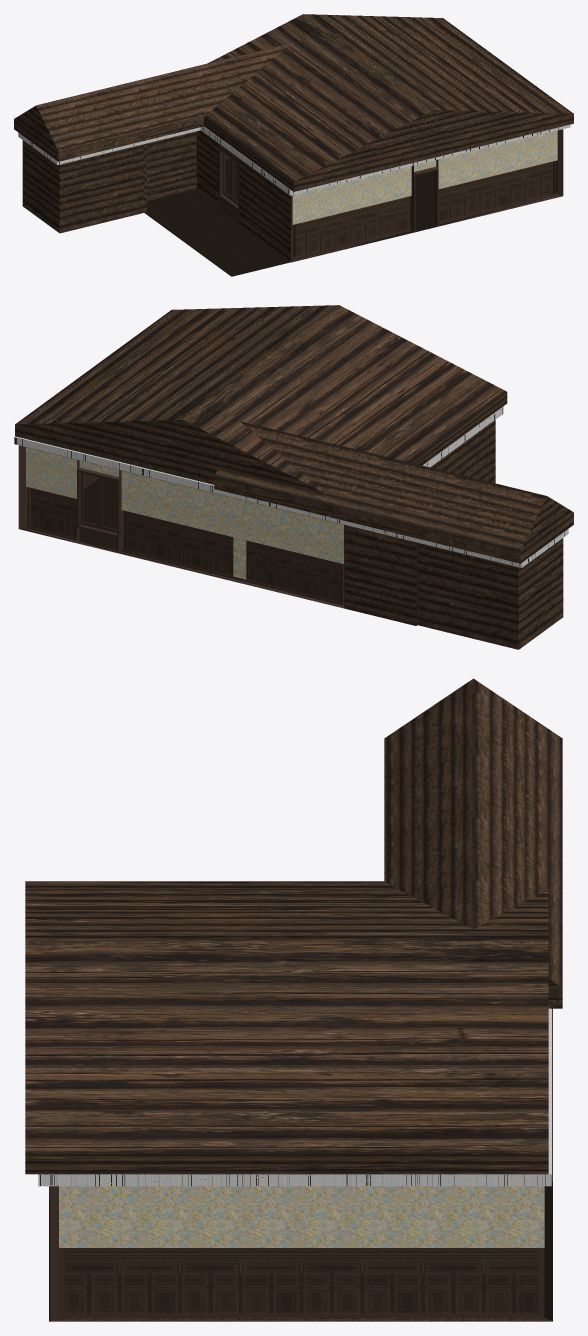
File: loft1.gltf
3 renders of one model, top to bottom at view 1: azimuth 30°, elevation 25°; view 2: azimuth 150°, elevation 25°; view 3: azimuth 270°, elevation 25°, orthographic. The views are drawn at different scales.
Parts seen in each view (by area): view 1: toit, loft01, Cube.002, sdb, ground, plafond; view 2: toit, loft01, Cube.002, sdb, plafond, ground, Cube; view 3: toit, loft01, Cube.002, plafond, ground.
Boxes of the visible parts, <box> form: toit: <box>204,14,573,191</box>; loft01: <box>144,129,563,262</box>; Cube.002: <box>14,43,291,161</box>; sdb: <box>22,140,144,233</box>; ground: <box>145,158,551,276</box>; plafond: <box>18,124,570,195</box>; toit: <box>15,305,507,494</box>; loft01: <box>18,420,495,625</box>; Cube.002: <box>214,421,573,563</box>; sdb: <box>417,538,563,649</box>; plafond: <box>14,406,568,567</box>; ground: <box>20,478,417,625</box>; Cube: <box>233,498,246,579</box>; toit: <box>25,881,548,1174</box>; loft01: <box>49,1008,552,1321</box>; Cube.002: <box>384,678,562,1008</box>; plafond: <box>38,1008,551,1186</box>; ground: <box>51,1318,547,1321</box>.
Bounding box in the file's own units: 160 × 44.39 × 87.28.
Materials: 11 (9 with a texture image).
